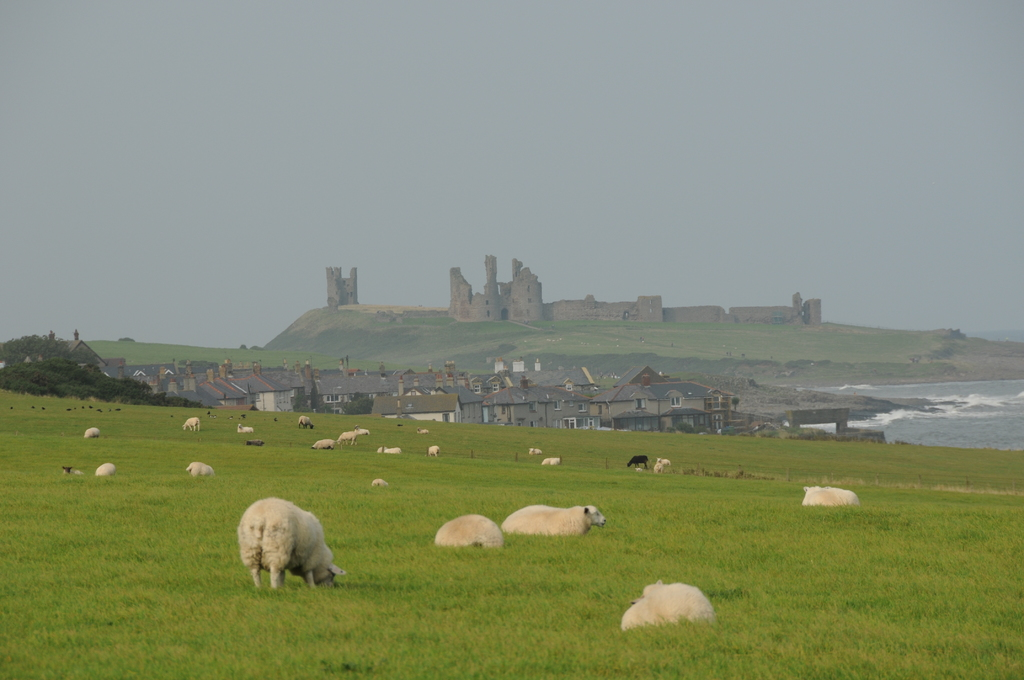sheep: (237, 497, 344, 591), (506, 503, 606, 535), (435, 516, 503, 554), (186, 461, 215, 478), (183, 414, 199, 434), (96, 461, 113, 478), (311, 437, 334, 449), (377, 444, 401, 455), (342, 429, 357, 444), (83, 427, 101, 439), (542, 456, 565, 464), (430, 444, 442, 456), (238, 425, 251, 434), (372, 480, 387, 485)
